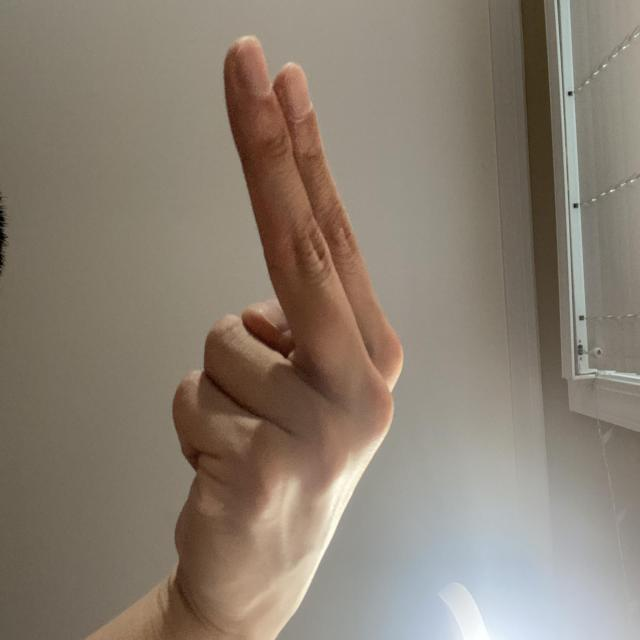H: (160, 299, 640, 638)
